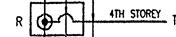Single Phase Tap-Off Unit: (25, 2, 90, 37)
